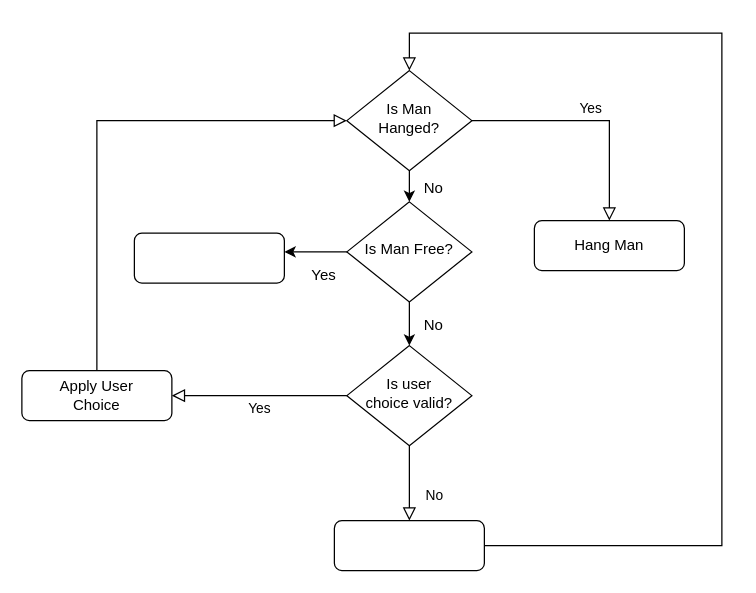
This 756x593 diagram has some shape labels left out. The centre of each missing label's shape, as x and y in pixels:
Free Man: (208,257)
Hang that Sumbitch!: (408,545)
